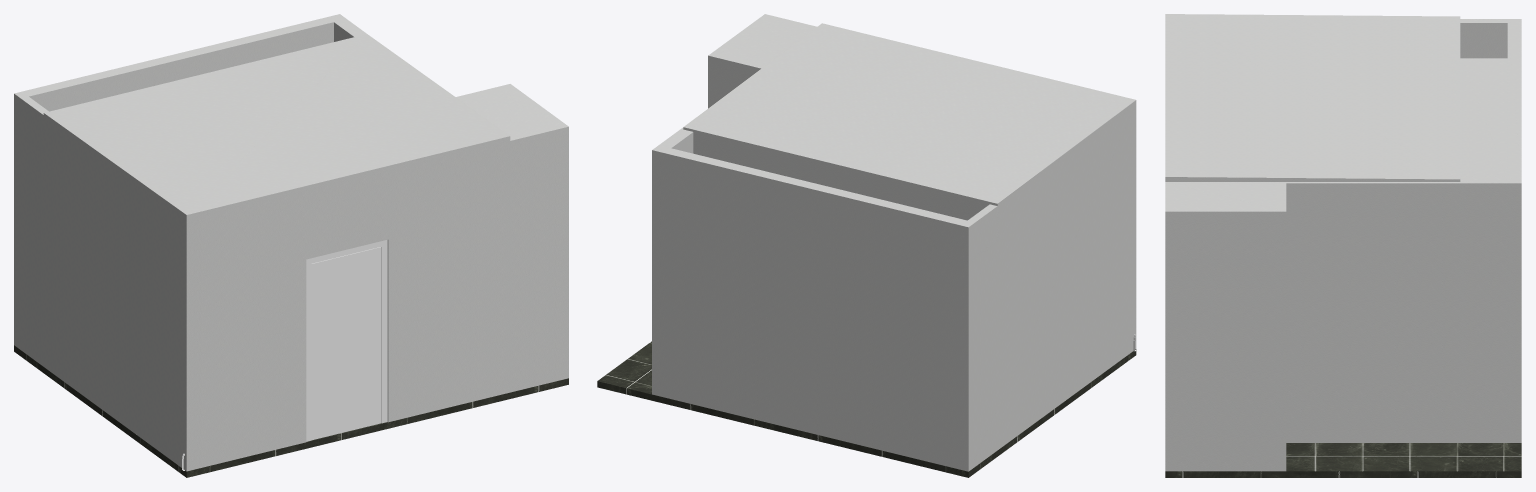
The model's file is FloorPlan410_physics.fbx.
3 views of the same model, side by side, from view 1: azimuth 30°, elevation 25°; view 2: azimuth 150°, elevation 25°; view 3: azimuth 270°, elevation 25° (orthographic). The views are drawn at different scales.
Visible parts, largest first — view 1: FP410:Walls, FP410:Ceiling, FP410:polySurface173, FP410:Floor, FP410:polySurface175; view 2: FP410:Walls, FP410:Ceiling, FP410:Floor; view 3: FP410:Walls, FP410:Ceiling, FP410:Floor.
Part boxes in pixels (x1,y1,x2,y2): FP410:Walls: (14, 14, 568, 471); FP410:Ceiling: (14, 34, 510, 219); FP410:polySurface173: (311, 246, 381, 440); FP410:Floor: (14, 345, 568, 477); FP410:polySurface175: (306, 239, 387, 441); FP410:Walls: (652, 14, 1136, 471); FP410:Ceiling: (654, 23, 1136, 263); FP410:Floor: (597, 341, 1136, 477); FP410:Walls: (1165, 19, 1521, 471); FP410:Ceiling: (1165, 14, 1507, 243); FP410:Floor: (1165, 443, 1521, 477).
Size of the model in its own units: 498 by 326 by 388.
